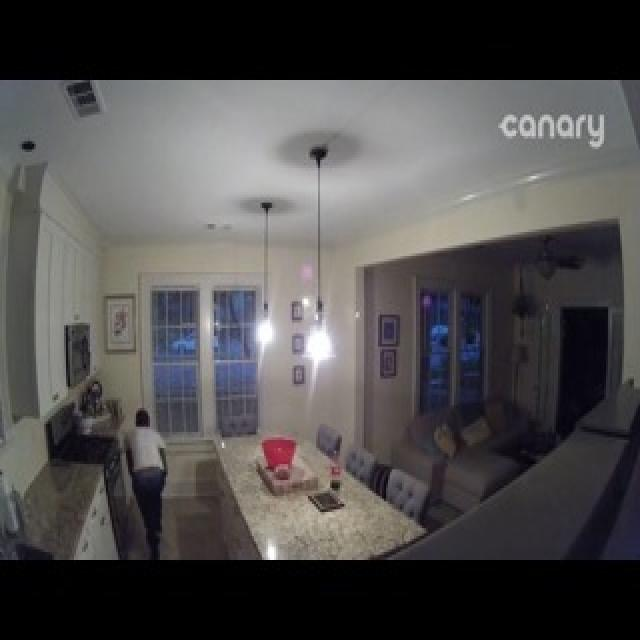thief: (116, 406, 185, 558)
